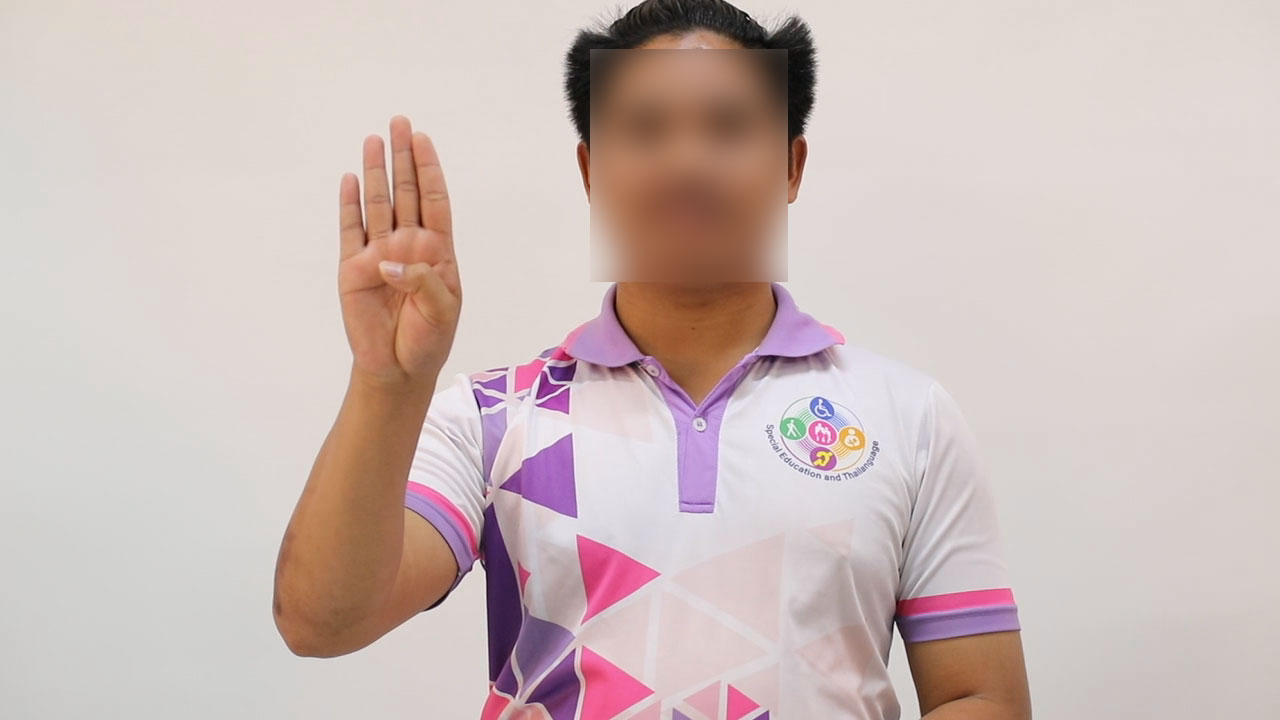bor: (320, 103, 475, 411)
